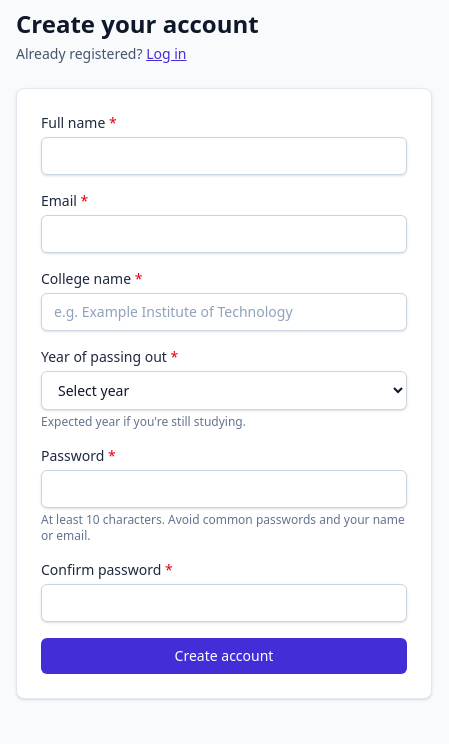
Scenario: RegisterPage › checks that the passwords match
Type "Casey Example" into the field labelled "Full name *". click: [224, 156]
box: [41,137,407,175]
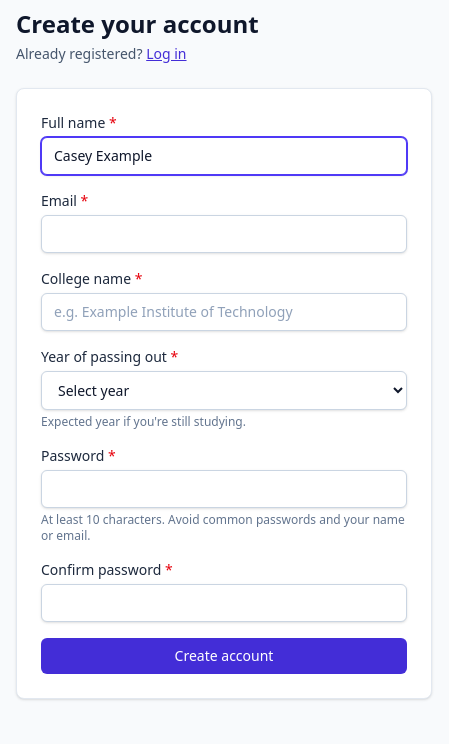
Type "casey@example.com" into the field labelled "Email *". click: [224, 234]
box: [41,215,407,253]
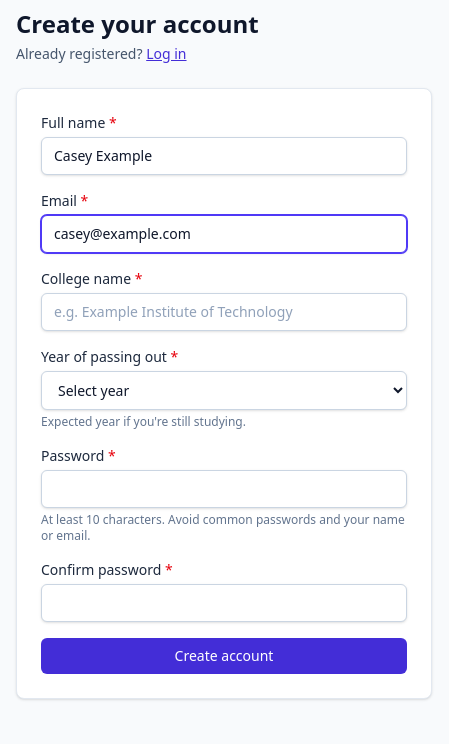
Type "Long-Enough-Pass-1" into the password field labelled "Password *". click: [224, 489]
box: [41,470,407,508]
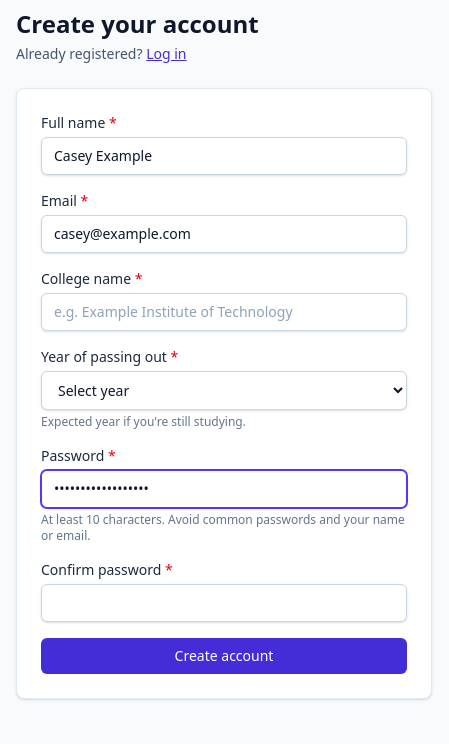
Type "Different-Pass-22" into the password field labelled "Confirm password *". click: [224, 603]
box: [41,584,407,622]
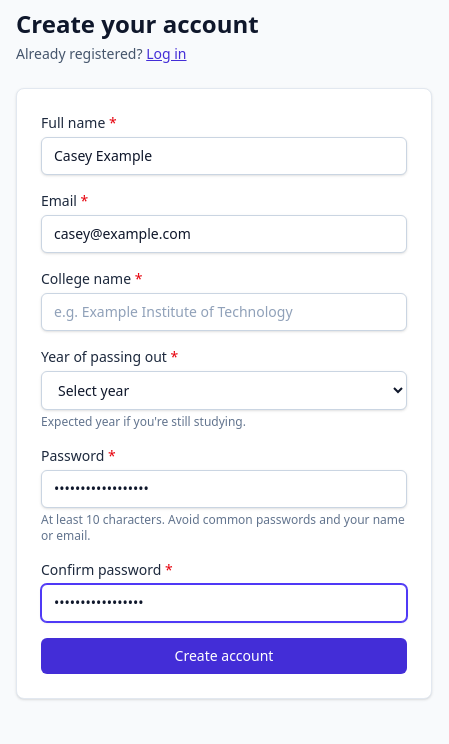
Click the button "Create account". click: [224, 656]
box: [41,638,407,674]
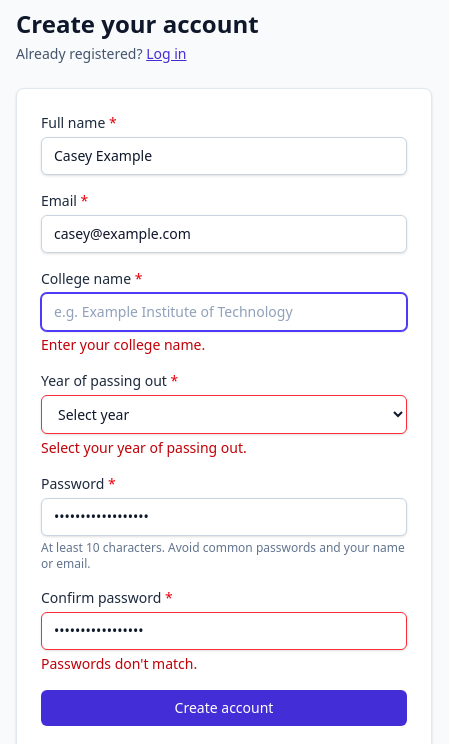
expect the text "Passwords don't match." is shown: met, box [41,654,197,673]
